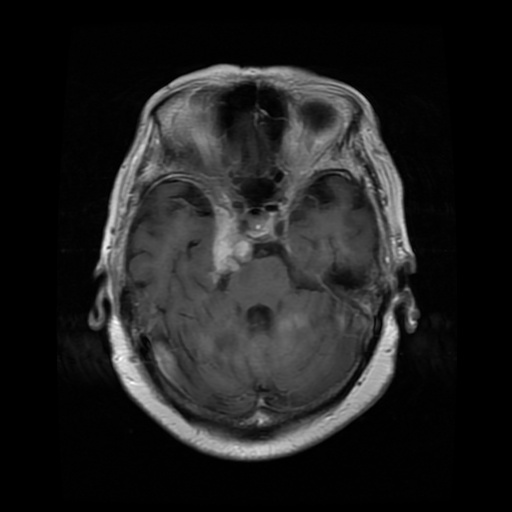meningioma: (208, 205, 254, 282)
